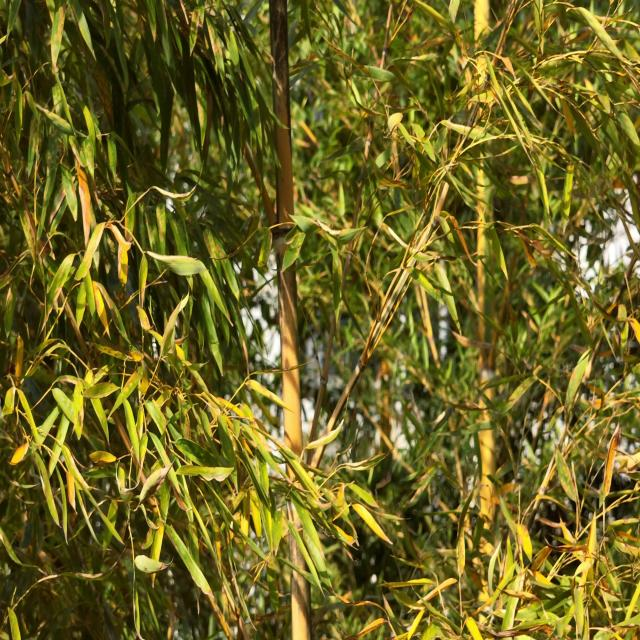Bamboo-shoots: (270, 2, 311, 640)
